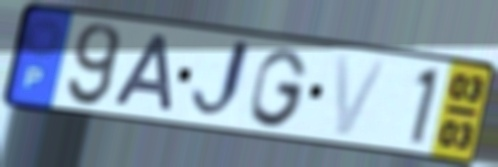1: (406, 64, 443, 147)
9: (66, 20, 124, 109)
A: (109, 31, 175, 115)
G: (247, 45, 312, 130)
J: (187, 35, 255, 125)
V: (332, 51, 392, 139)
